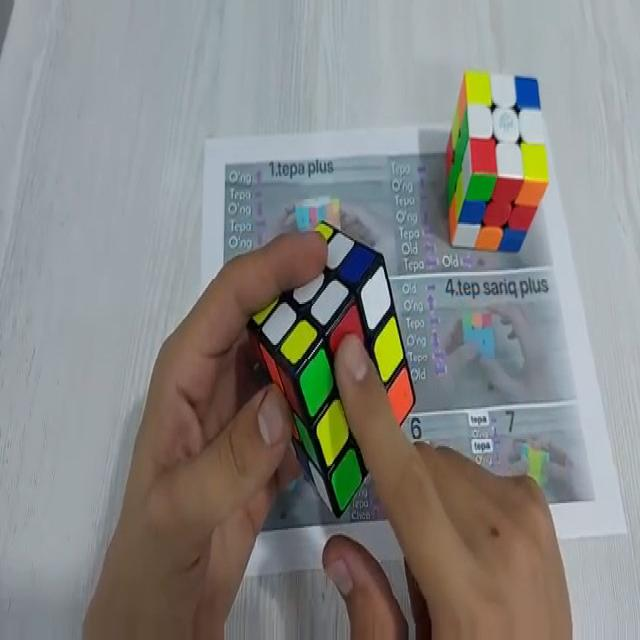Rub: (250, 220, 416, 517), (448, 68, 548, 252)
